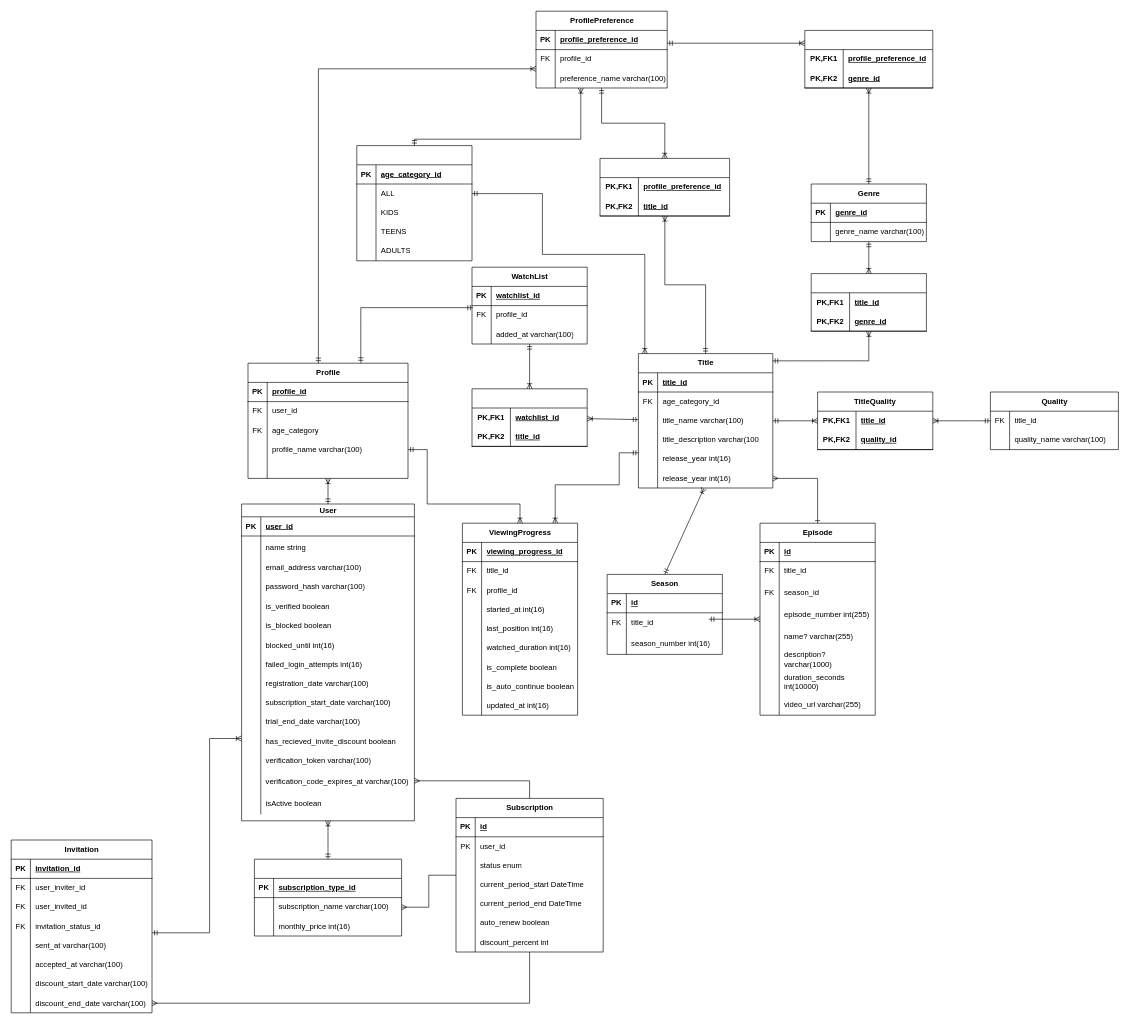
Image size: 1130x1024. Some labels were removed from this diagram. Here are the shapes that lost their labels. From the top down, the box of each, then its label:
(804, 30, 933, 88): GenreProfilePreference
(356, 145, 472, 261): AgeCategory ENUM
(599, 158, 730, 216): TitleProfilePreference
(811, 273, 926, 331): GenreTitle
(471, 388, 587, 446): WatchListTitle
(254, 859, 402, 936): SubscriptionPlan
